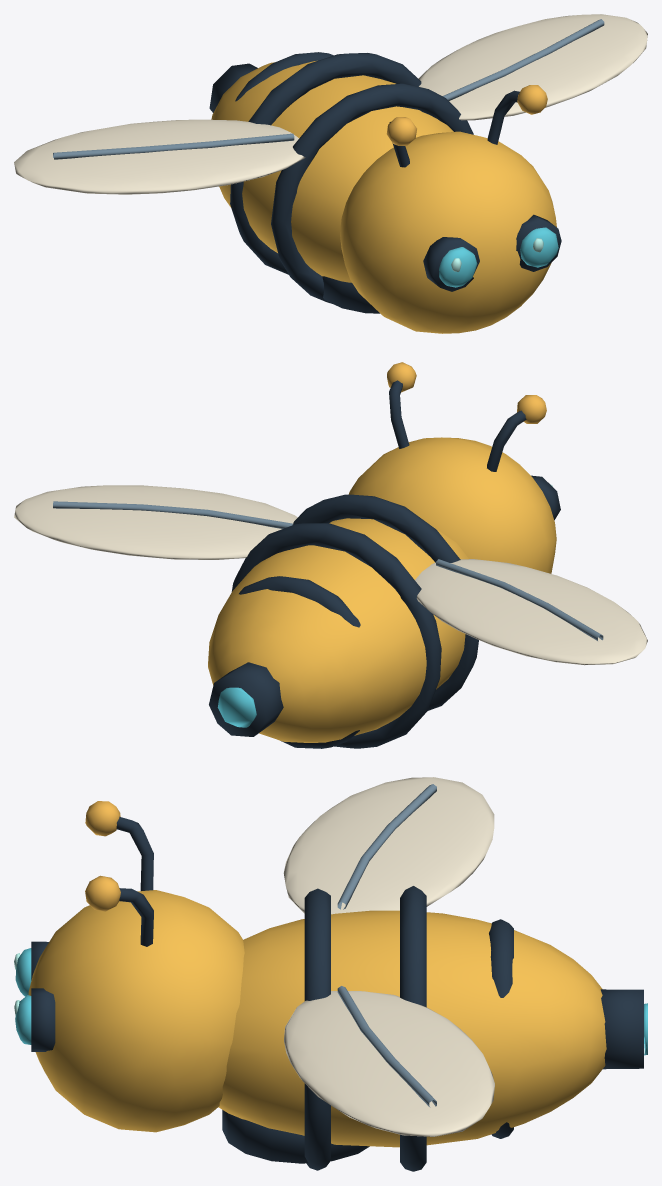
The model's file is bee_low.glb.
The picture shows the model from 3 angles, top to bottom: view 1: azimuth 30°, elevation 25°; view 2: azimuth 150°, elevation 25°; view 3: azimuth 270°, elevation 25°; orthographic projection. The views are drawn at different scales.
Visible parts, largest first — view 1: BodyMesh, WingLeftMesh, WingRightMesh; view 2: BodyMesh, WingLeftMesh, WingRightMesh; view 3: BodyMesh, WingRightMesh, WingLeftMesh.
Boxes of the visible parts, x1=… form: BodyMesh: x1=209, y1=52, x2=561, y2=333; WingLeftMesh: x1=14, y1=119, x2=305, y2=194; WingRightMesh: x1=418, y1=14, x2=647, y2=120; BodyMesh: x1=208, y1=362, x2=560, y2=748; WingLeftMesh: x1=415, y1=559, x2=647, y2=665; WingRightMesh: x1=14, y1=485, x2=297, y2=559; BodyMesh: x1=14, y1=801, x2=647, y2=1171; WingRightMesh: x1=284, y1=986, x2=494, y2=1136; WingLeftMesh: x1=283, y1=777, x2=494, y2=914.
Bounding box in the file's own units: 2.13 × 0.8843 × 1.59.
